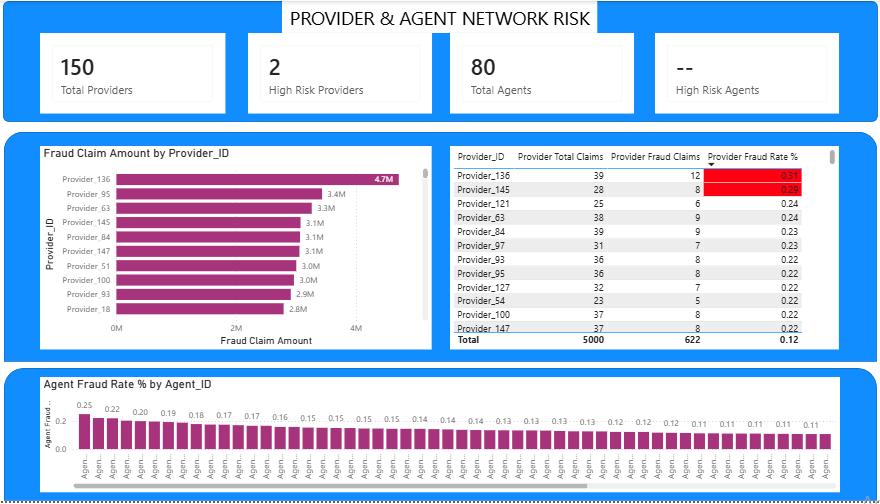

This screenshot's page, from the dashboard's own definition file:
{"tool":"powerbi","page":{"name":"Network Risk – Providers & Agents","canvas":[1280,720],"ordinal":2},"visuals":[{"type":"shape","box":[10.2,0,1259.7,174.1],"z":0},{"type":"textbox","box":[412.2,0,454.2,46.4],"z":1000},{"type":"cardVisual","fields":{"Data":["Insurance_Fraud_Network_Dataset_5000_Leads.Total Providers"]},"box":[63.3,46.7,266.9,116.1],"z":2000},{"type":"cardVisual","fields":{"Data":["Insurance_Fraud_Network_Dataset_5000_Leads.High Risk Providers"]},"box":[363.3,46.7,265.3,116.1],"z":3000},{"type":"cardVisual","fields":{"Data":["Insurance_Fraud_Network_Dataset_5000_Leads.Total Agents"]},"box":[654.3,46.7,265.3,116.1],"z":4000},{"type":"cardVisual","fields":{"Data":["Insurance_Fraud_Network_Dataset_5000_Leads.High Risk Agents"]},"box":[948.3,46.7,265.3,116.1],"z":5000},{"type":"shape","box":[11.3,188,1257.4,330.8],"z":6000},{"type":"barChart","fields":{"Y":["Insurance_Fraud_Network_Dataset_5000_Leads.Fraud Claim Amount"],"Category":["Insurance_Fraud_Network_Dataset_5000_Leads.Provider_ID"]},"box":[63.9,208.6,563.9,293.2],"z":7000},{"type":"tableEx","fields":{"Values":["Insurance_Fraud_Network_Dataset_5000_Leads.Provider_ID","Insurance_Fraud_Network_Dataset_5000_Leads.Provider Total Claims","Insurance_Fraud_Network_Dataset_5000_Leads.Provider Fraud Claims","Insurance_Fraud_Network_Dataset_5000_Leads.Provider Fraud Rate %"]},"box":[654.1,208.6,560.1,293.2],"z":8000},{"type":"shape","box":[11,529,1257,191],"z":9000},{"type":"columnChart","fields":{"Category":["Insurance_Fraud_Network_Dataset_5000_Leads.Agent_ID"],"Y":["Insurance_Fraud_Network_Dataset_5000_Leads.Agent Fraud Rate %"]},"box":[63.3,541.2,1151.8,165.8],"z":10000}]}

Visuals, with their boxes in screenshot pixels (x1, y1, x2, y2), scaled from the page's 1280x720 canvas onto the 880x504 screenshot:
shape: Rect(7, 0, 873, 122)
textbox: Rect(283, 0, 596, 32)
cardVisual - Insurance_Fraud_Network_Dataset_5000_Leads.Total Providers: Rect(44, 33, 227, 114)
cardVisual - Insurance_Fraud_Network_Dataset_5000_Leads.High Risk Providers: Rect(250, 33, 432, 114)
cardVisual - Insurance_Fraud_Network_Dataset_5000_Leads.Total Agents: Rect(450, 33, 632, 114)
cardVisual - Insurance_Fraud_Network_Dataset_5000_Leads.High Risk Agents: Rect(652, 33, 834, 114)
shape: Rect(8, 132, 872, 363)
barChart - Insurance_Fraud_Network_Dataset_5000_Leads.Fraud Claim Amount x Insurance_Fraud_Network_Dataset_5000_Leads.Provider_ID: Rect(44, 146, 432, 351)
tableEx - Insurance_Fraud_Network_Dataset_5000_Leads.Provider_ID x Insurance_Fraud_Network_Dataset_5000_Leads.Provider Total Claims: Rect(450, 146, 835, 351)
shape: Rect(8, 370, 872, 503)
columnChart - Insurance_Fraud_Network_Dataset_5000_Leads.Agent_ID x Insurance_Fraud_Network_Dataset_5000_Leads.Agent Fraud Rate %: Rect(44, 379, 835, 495)
